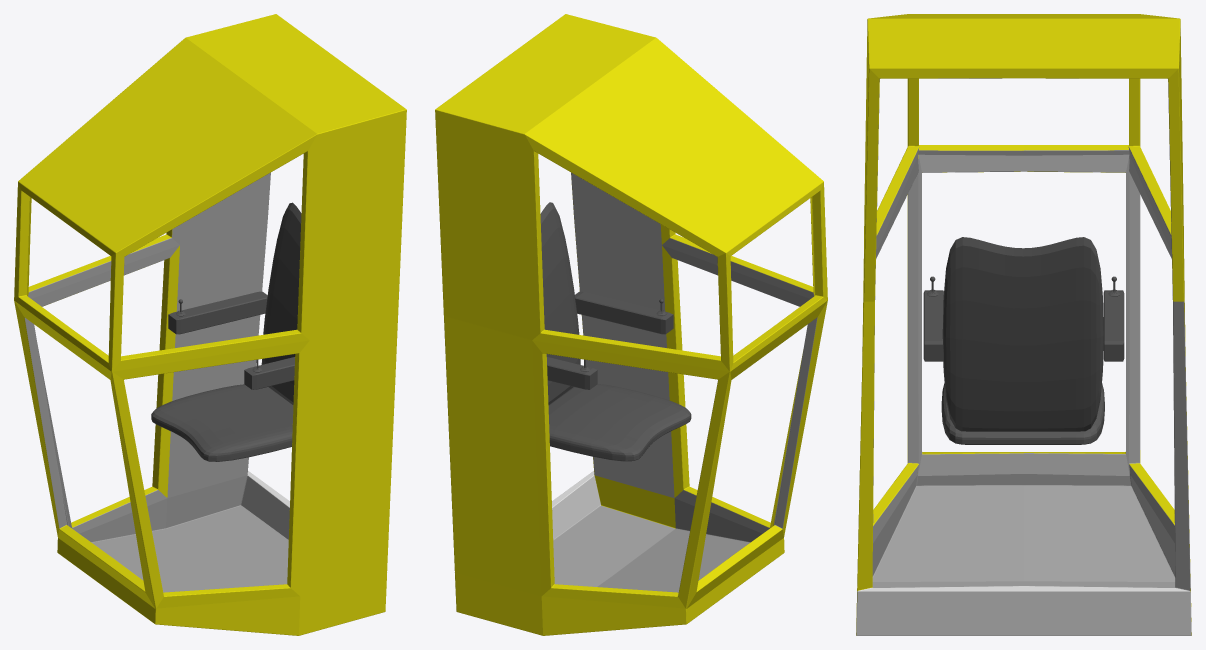
Rendered from Cabin.glb.
3 views of the same model, side by side, from view 1: azimuth 30°, elevation 25°; view 2: azimuth 150°, elevation 25°; view 3: azimuth 270°, elevation 25° (orthographic). The views are drawn at different scales.
Parts seen in each view (by area): view 1: Cabin, Cabin.001, Cabin.002, Cube.002, Cube.001; view 2: Cabin, Cabin.001, Cabin.002, Cube.001, Cube.002; view 3: Cabin, Cabin.002, Cabin.001, Cube.002, Cube.001.
Boxes of the visible parts, x1=… form: Cabin: x1=14, y1=14, x2=406, y2=635; Cabin.001: x1=151, y1=384, x2=293, y2=461; Cabin.002: x1=261, y1=202, x2=301, y2=404; Cube.002: x1=168, y1=291, x2=267, y2=334; Cube.001: x1=244, y1=357, x2=294, y2=389; Cabin: x1=435, y1=14, x2=827, y2=635; Cabin.001: x1=548, y1=384, x2=691, y2=461; Cabin.002: x1=540, y1=202, x2=580, y2=404; Cube.001: x1=575, y1=291, x2=673, y2=334; Cube.002: x1=547, y1=357, x2=597, y2=389; Cabin: x1=856, y1=14, x2=1191, y2=635; Cabin.002: x1=942, y1=237, x2=1103, y2=431; Cabin.001: x1=941, y1=383, x2=1104, y2=444; Cube.002: x1=1103, y1=290, x2=1124, y2=361; Cube.001: x1=923, y1=290, x2=943, y2=361.
Bounding box in the file's own units: 0.9992 × 1.7 × 0.878.
